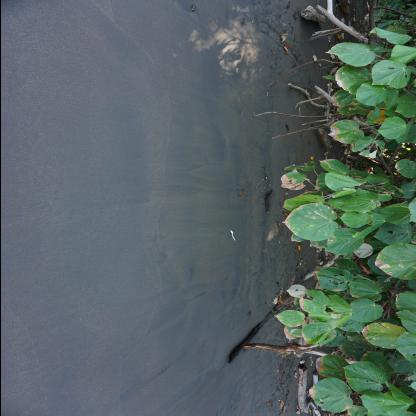plastik: (230, 231, 236, 241)
